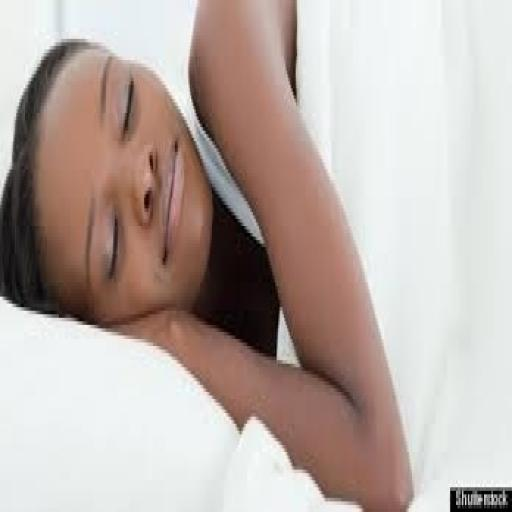sleeping: (0, 0, 415, 508)
